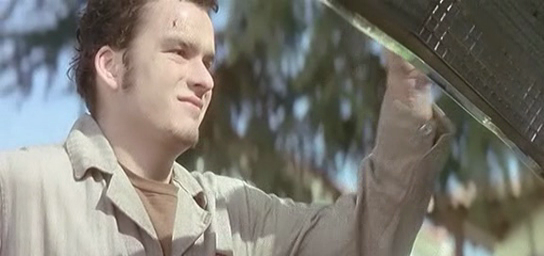face: (152, 18, 217, 147)
mcu: (1, 1, 544, 256)
person: (2, 1, 459, 256)
